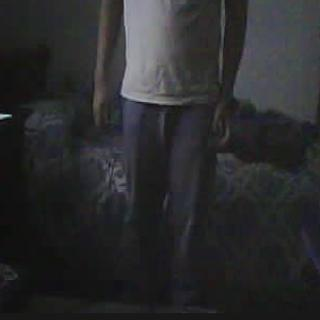Gray Sweatpants: (113, 100, 213, 310)
Yellow T-Shirt: (121, 0, 218, 101)
